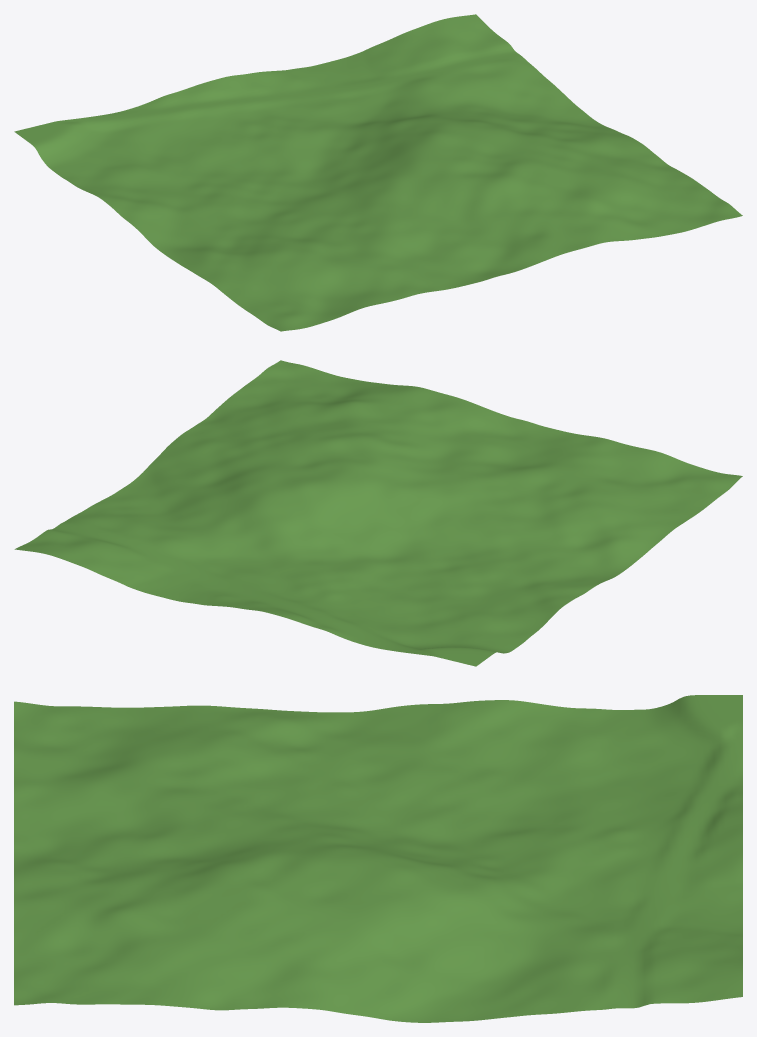
Rendered from SM_Terrain_05_04.fbx.
3 views of the same model, one above another, from view 1: azimuth 30°, elevation 25°; view 2: azimuth 150°, elevation 25°; view 3: azimuth 270°, elevation 25° (orthographic). The views are drawn at different scales.
Parts seen in each view (by area): view 1: SM_Terrain_05_04; view 2: SM_Terrain_05_04; view 3: SM_Terrain_05_04.
Part boxes in pixels (left/top/right/bottom): SM_Terrain_05_04: left=14, top=14, right=742, bottom=331; SM_Terrain_05_04: left=14, top=360, right=742, bottom=666; SM_Terrain_05_04: left=14, top=695, right=742, bottom=1022.
Bounding box in the file's own units: 384 × 24.8 × 384.
